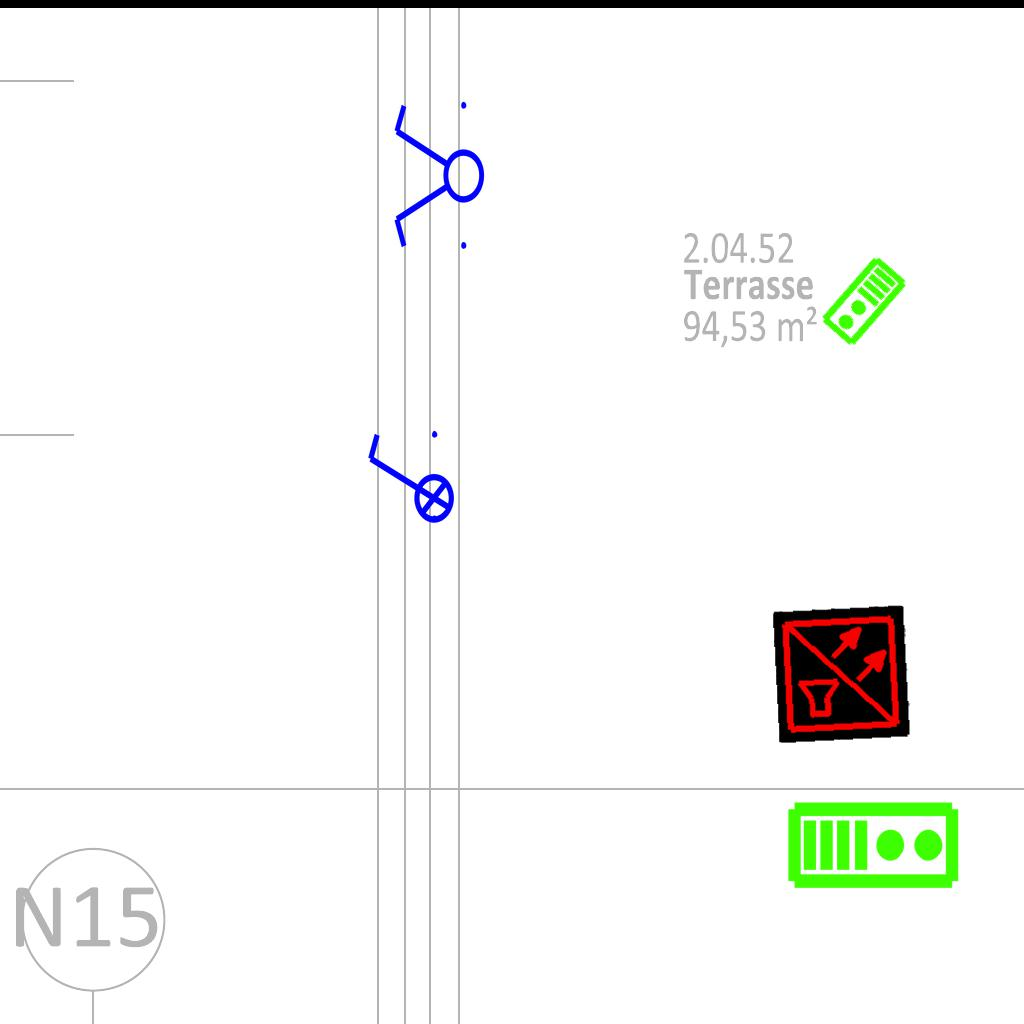Ausschalter_beleuchtet: (360, 425, 456, 537)
Gegensprechanlage_mit_Video: (786, 796, 962, 891), (817, 253, 912, 351)
OKW_Multisensormelder_(Kombination_optischer_Rauch-Kahlenmonoxid_Waerme-Melder): (772, 604, 912, 744)
Serienschalter: (390, 93, 486, 261)
